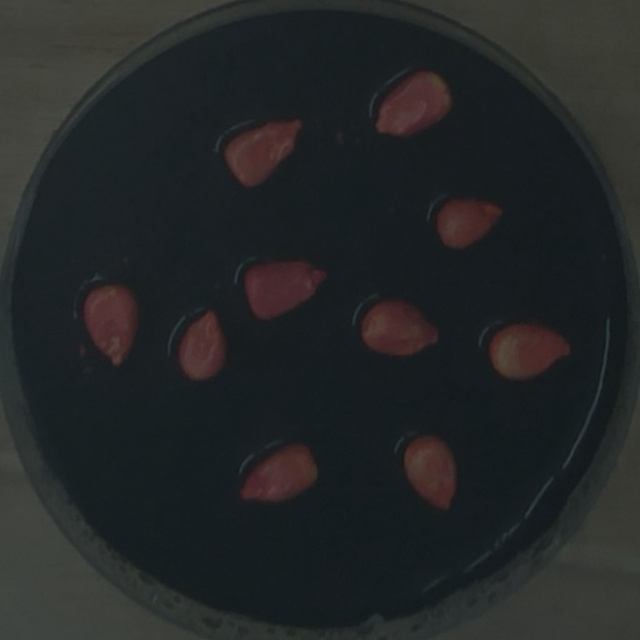Zea mays: (216, 109, 311, 194), (234, 250, 334, 329), (366, 61, 462, 143), (480, 314, 580, 388), (232, 437, 327, 512), (353, 289, 446, 364), (74, 276, 145, 374), (397, 427, 465, 518), (169, 300, 234, 389), (428, 189, 511, 257)
